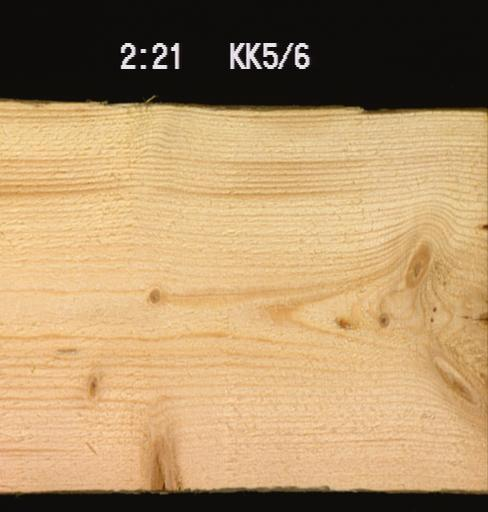small_knot: (81, 367, 105, 400), (372, 304, 393, 330), (144, 283, 165, 307)
split: (425, 302, 485, 327)
wave: (360, 102, 423, 116)
